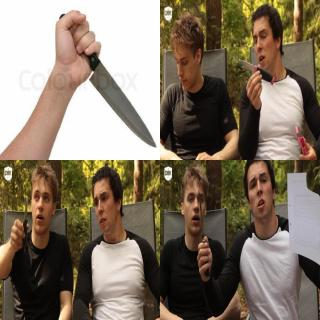knife: (68, 28, 160, 154), (196, 184, 212, 281), (238, 56, 276, 90), (17, 193, 29, 249)
